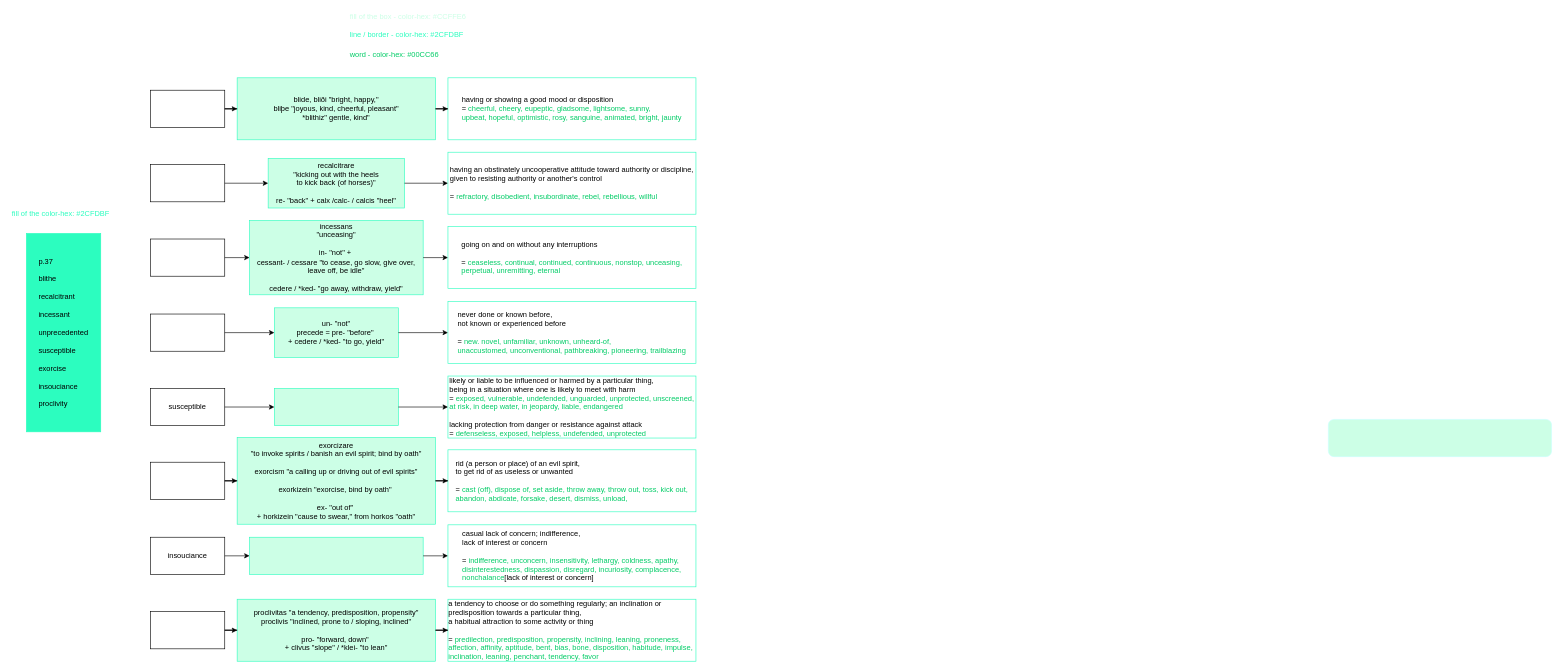
This 1562x672 diagram has some shape labels left out. The shapes that lost their labels are listed below. From the top down, each one's centre as x and y in pixels, then its label:
point (187, 108): blithe
point (187, 183): recalcitrant
point (187, 257): incessant
point (187, 332): unprecedented
point (336, 407): suscipere "take up , sustain" sub- " from below" + capere " take"
point (1440, 438): log transformation
point (187, 480): exorcise
point (336, 555): in- "not" + souciant / soucier "worrying"
point (187, 630): proclivity
